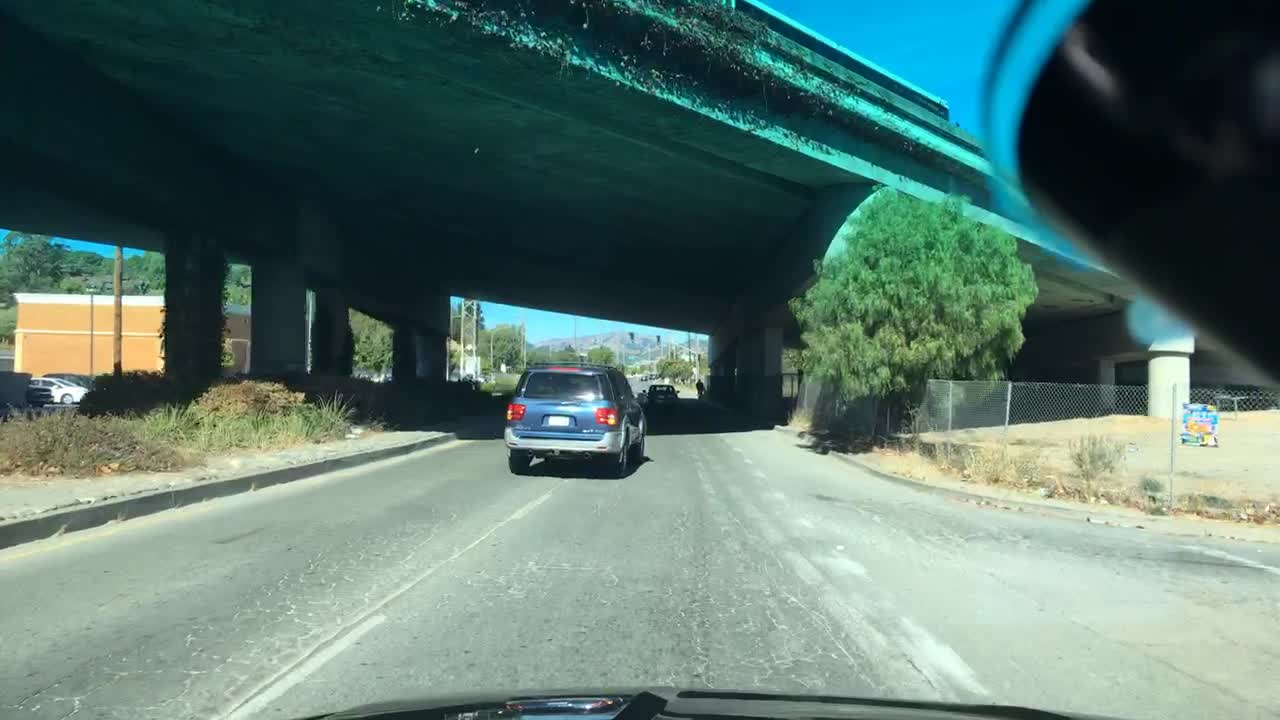bike: (698, 391, 708, 405)
car: (502, 360, 648, 477), (28, 378, 90, 406), (644, 382, 679, 409), (43, 371, 95, 386), (461, 371, 486, 381), (382, 371, 395, 383), (638, 374, 648, 385), (648, 371, 661, 379)
rider: (695, 377, 707, 396)
traffic light: (655, 333, 663, 350), (627, 331, 635, 343)
